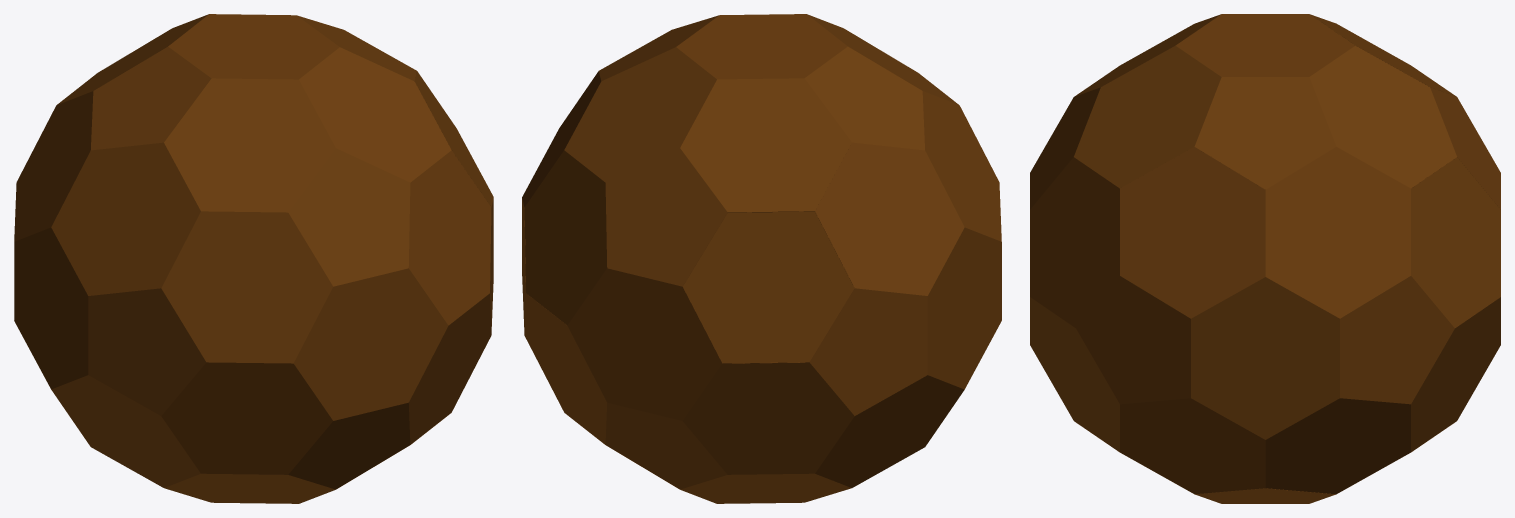
Rendered from planet_testv2 (3).fbx.
3 renders of one model, left to right at view 1: azimuth 30°, elevation 25°; view 2: azimuth 150°, elevation 25°; view 3: azimuth 270°, elevation 25°, orthographic.
Parts seen in each view (by area): view 1: Chamfered dodecahedronv3.029, Chamfered dodecahedronv3.027, Chamfered dodecahedronv3.041, Chamfered dodecahedronv3.030, Chamfered dodecahedronv3.031, Chamfered dodecahedronv3.002, Chamfered dodecahedronv3.028, Chamfered dodecahedronv3.003, Chamfered dodecahedronv3.038, Chamfered dodecahedronv3.037, Chamfered dodecahedronv3.001, Chamfered dodecahedronv3.035 (+8 smaller); view 2: Chamfered dodecahedronv3.009, Chamfered dodecahedronv3.010, Chamfered dodecahedronv3.040, Chamfered dodecahedronv3.013, Chamfered dodecahedronv3.008, Chamfered dodecahedronv3.011, Chamfered dodecahedronv3.012, Chamfered dodecahedronv3.014, Chamfered dodecahedronv3.039, Chamfered dodecahedronv3.037, Chamfered dodecahedronv3.001, Chamfered dodecahedronv3.036 (+8 smaller); view 3: Chamfered dodecahedronv3.025, Chamfered dodecahedronv3.024, Chamfered dodecahedronv3.022, Chamfered dodecahedronv3.002, Chamfered dodecahedronv3.011, Chamfered dodecahedronv3.003, Chamfered dodecahedronv3.014, Chamfered dodecahedronv3.026, Chamfered dodecahedronv3.020, Chamfered dodecahedronv3.019, Chamfered dodecahedronv3.021, Chamfered dodecahedronv3.023 (+8 smaller).
Boxes of the visible parts, x1,y1,x2,y2 form: Chamfered dodecahedronv3.029: (161, 211, 333, 363); Chamfered dodecahedronv3.027: (164, 78, 335, 212); Chamfered dodecahedronv3.041: (51, 142, 200, 295); Chamfered dodecahedronv3.030: (293, 268, 448, 420); Chamfered dodecahedronv3.031: (161, 362, 332, 474); Chamfered dodecahedronv3.002: (299, 47, 451, 182); Chamfered dodecahedronv3.028: (288, 148, 410, 286); Chamfered dodecahedronv3.003: (408, 150, 491, 325); Chamfered dodecahedronv3.038: (88, 288, 206, 415); Chamfered dodecahedronv3.037: (14, 227, 88, 389); Chamfered dodecahedronv3.001: (168, 14, 339, 79); Chamfered dodecahedronv3.035: (51, 375, 200, 487); Chamfered dodecahedronv3.009: (683, 211, 854, 363); Chamfered dodecahedronv3.010: (680, 78, 851, 212); Chamfered dodecahedronv3.040: (815, 142, 964, 295); Chamfered dodecahedronv3.013: (567, 268, 722, 420); Chamfered dodecahedronv3.008: (683, 362, 854, 474); Chamfered dodecahedronv3.011: (564, 47, 716, 182); Chamfered dodecahedronv3.012: (605, 148, 727, 286); Chamfered dodecahedronv3.014: (524, 150, 607, 325); Chamfered dodecahedronv3.039: (809, 288, 927, 415); Chamfered dodecahedronv3.037: (927, 227, 1001, 389); Chamfered dodecahedronv3.001: (676, 14, 847, 79); Chamfered dodecahedronv3.036: (815, 375, 964, 487); Chamfered dodecahedronv3.025: (1120, 147, 1265, 318); Chamfered dodecahedronv3.024: (1265, 147, 1410, 318); Chamfered dodecahedronv3.022: (1191, 277, 1339, 439); Chamfered dodecahedronv3.002: (1074, 45, 1221, 188); Chamfered dodecahedronv3.011: (1309, 45, 1456, 188); Chamfered dodecahedronv3.003: (1030, 157, 1119, 327); Chamfered dodecahedronv3.014: (1411, 157, 1500, 327); Chamfered dodecahedronv3.026: (1194, 77, 1336, 189); Chamfered dodecahedronv3.020: (1120, 398, 1265, 494); Chamfered dodecahedronv3.019: (1265, 398, 1410, 494); Chamfered dodecahedronv3.021: (1076, 276, 1190, 404); Chamfered dodecahedronv3.023: (1340, 276, 1454, 404).
Bounding box in the file's own units: 10002 × 10004 × 10000.
